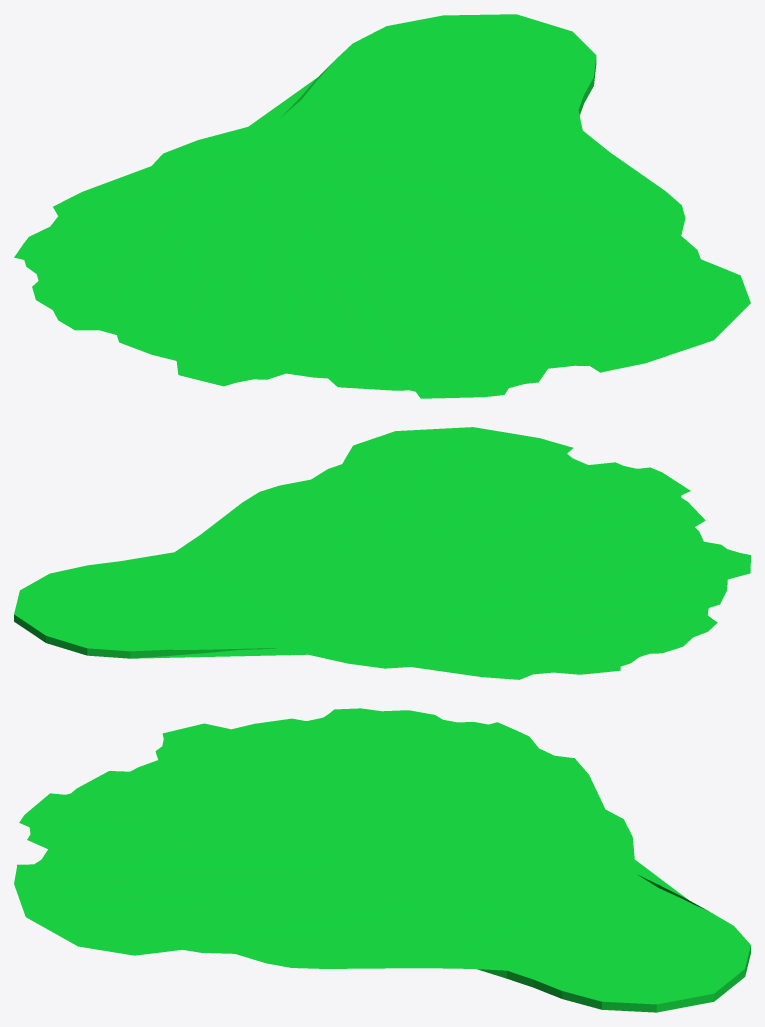
File: Hamburger-Lettuce.fbx
3 views of the same model, one above another, from view 1: azimuth 30°, elevation 25°; view 2: azimuth 150°, elevation 25°; view 3: azimuth 270°, elevation 25° (orthographic). The views are drawn at different scales.
Visible parts, largest first — view 1: Lettuce.001; view 2: Lettuce.001; view 3: Lettuce.001.
Boxes of the visible parts, x1,y1,x2,y2 form: Lettuce.001: [14, 14, 750, 398]; Lettuce.001: [14, 427, 750, 679]; Lettuce.001: [14, 708, 750, 1012].
Bounding box in the file's own units: 176 × 2.22 × 182.
